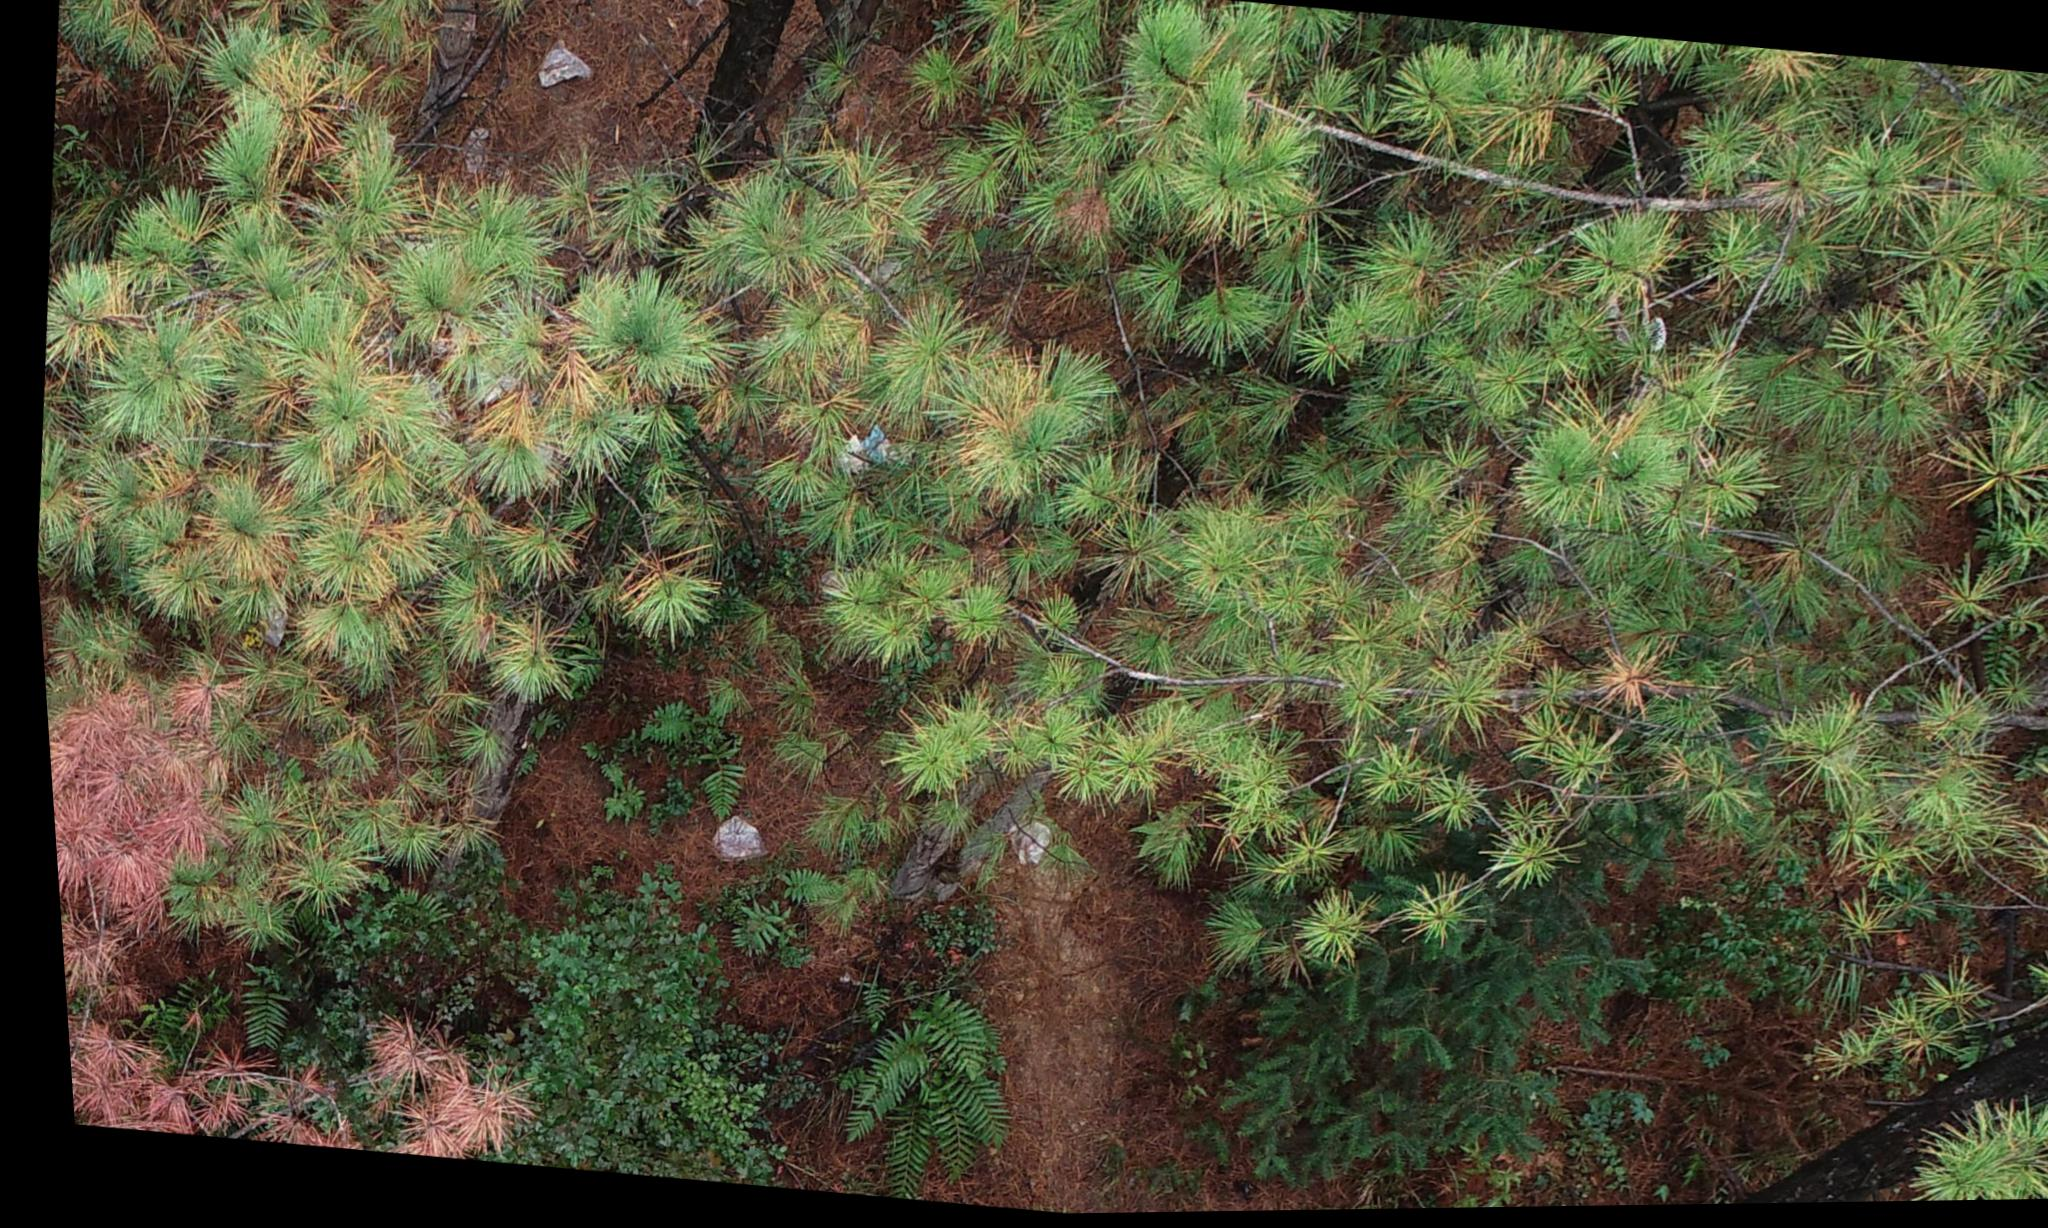heavy: (37, 678, 522, 1151)
light: (661, 0, 2048, 1047), (7, 0, 705, 716)
